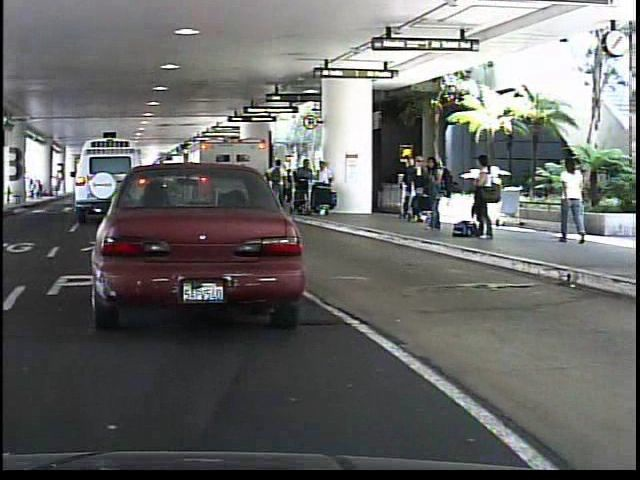person: (552, 153, 590, 246), (466, 150, 494, 241)
